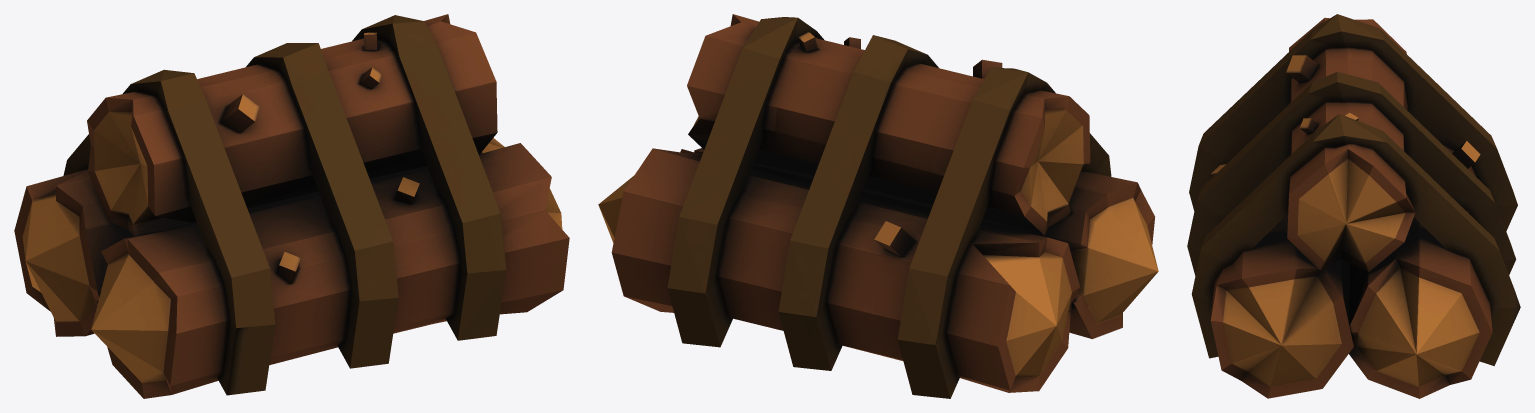
File: hout.gltf
3 views of the same model, side by side, from view 1: azimuth 30°, elevation 25°; view 2: azimuth 150°, elevation 25°; view 3: azimuth 270°, elevation 25° (orthographic). The views are drawn at different scales.
Visible parts, largest first — view 1: Tronc-rope; view 2: Tronc-rope; view 3: Tronc-rope.
Boxes of the visible parts, box(x1,y1,x2,y2) form: Tronc-rope: box(14, 14, 569, 398); Tronc-rope: box(598, 14, 1158, 398); Tronc-rope: box(1187, 14, 1520, 398).
Bounding box in the file's own units: 6.84 × 3.65 × 4.57.
Materials: 2 (2 with a texture image).
